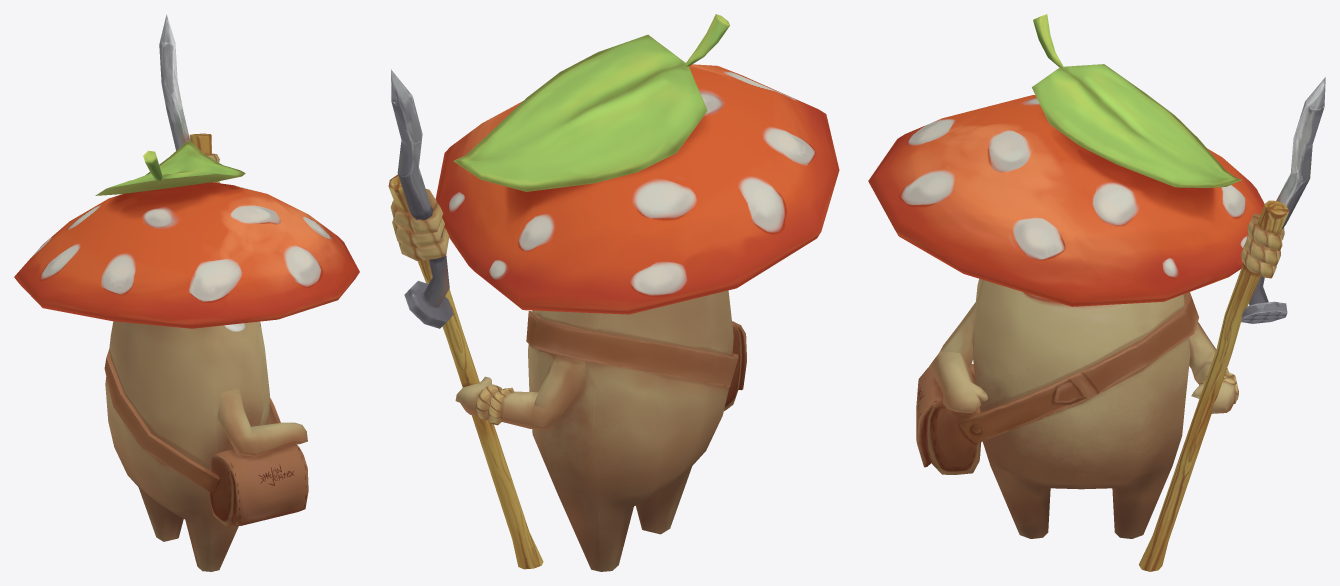
Rendered from mushroom_warrior.glb.
3 views of the same model, side by side, from view 1: azimuth 30°, elevation 25°; view 2: azimuth 150°, elevation 25°; view 3: azimuth 270°, elevation 25° (orthographic). The views are drawn at different scales.
Visible parts, largest first — view 1: Cube.003; view 2: Cube.003; view 3: Cube.003.
Part boxes in pixels (left/top/right/bottom): Cube.003: left=14, top=14, right=359, bottom=571; Cube.003: left=388, top=14, right=839, bottom=571; Cube.003: left=868, top=14, right=1325, bottom=571.
Bounding box in the file's own units: 282 × 394 × 320.
Materials: 1 (1 with a texture image).
